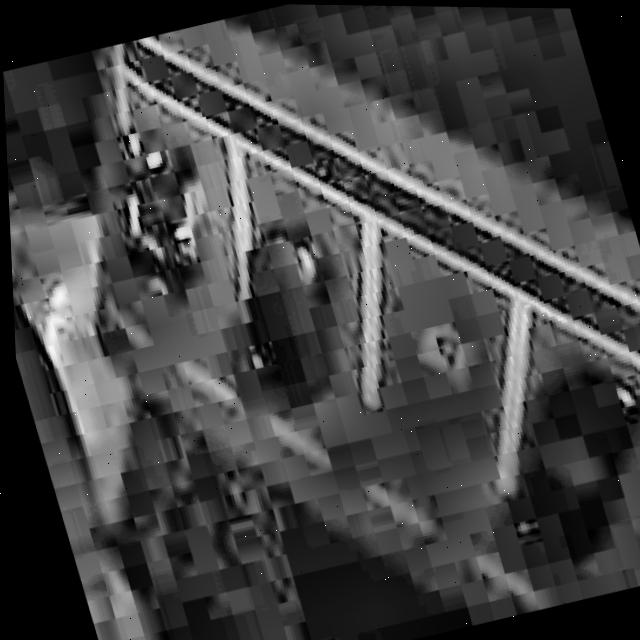car: (449, 328, 640, 569), (63, 94, 242, 315), (198, 208, 370, 419)
